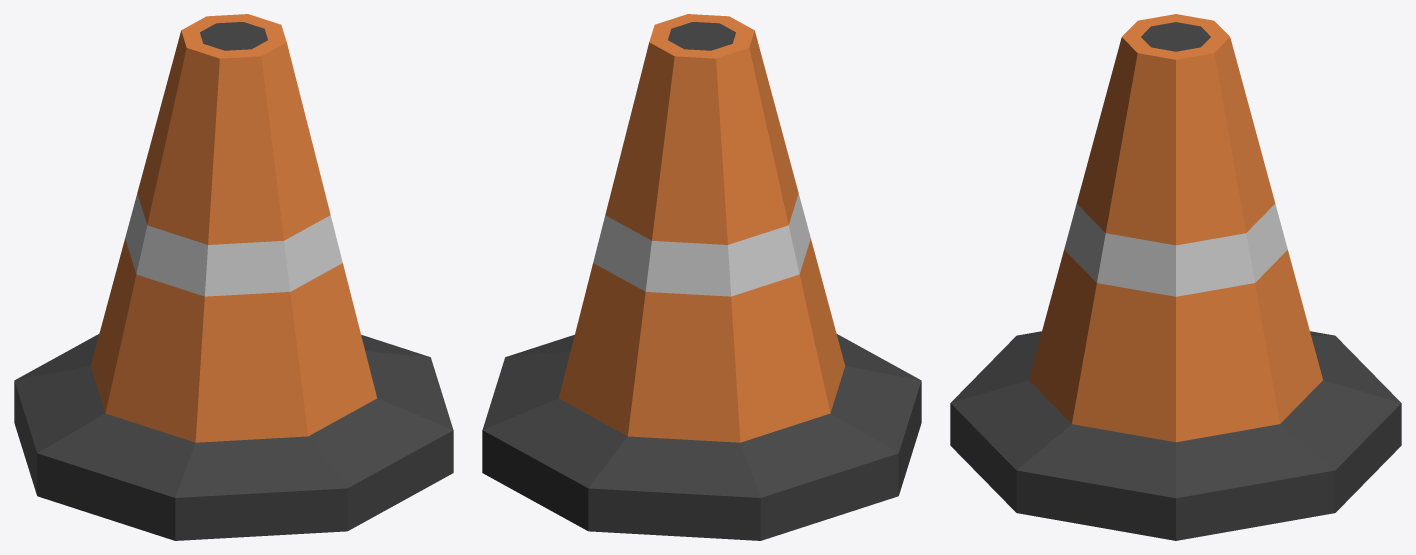
File: env_prop_streetcone1_mesh_01_v1.glb
3 views of the same model, side by side, from view 1: azimuth 30°, elevation 25°; view 2: azimuth 150°, elevation 25°; view 3: azimuth 270°, elevation 25° (orthographic).
Visible parts, largest first — view 1: TraffikCone; view 2: TraffikCone; view 3: TraffikCone.
Boxes of the visible parts, x1=… form: TraffikCone: x1=14, y1=14, x2=453, y2=540; TraffikCone: x1=482, y1=14, x2=921, y2=540; TraffikCone: x1=950, y1=14, x2=1401, y2=540.
Size of the model in its own units: 0.9939 by 0.9939 by 0.9939.
